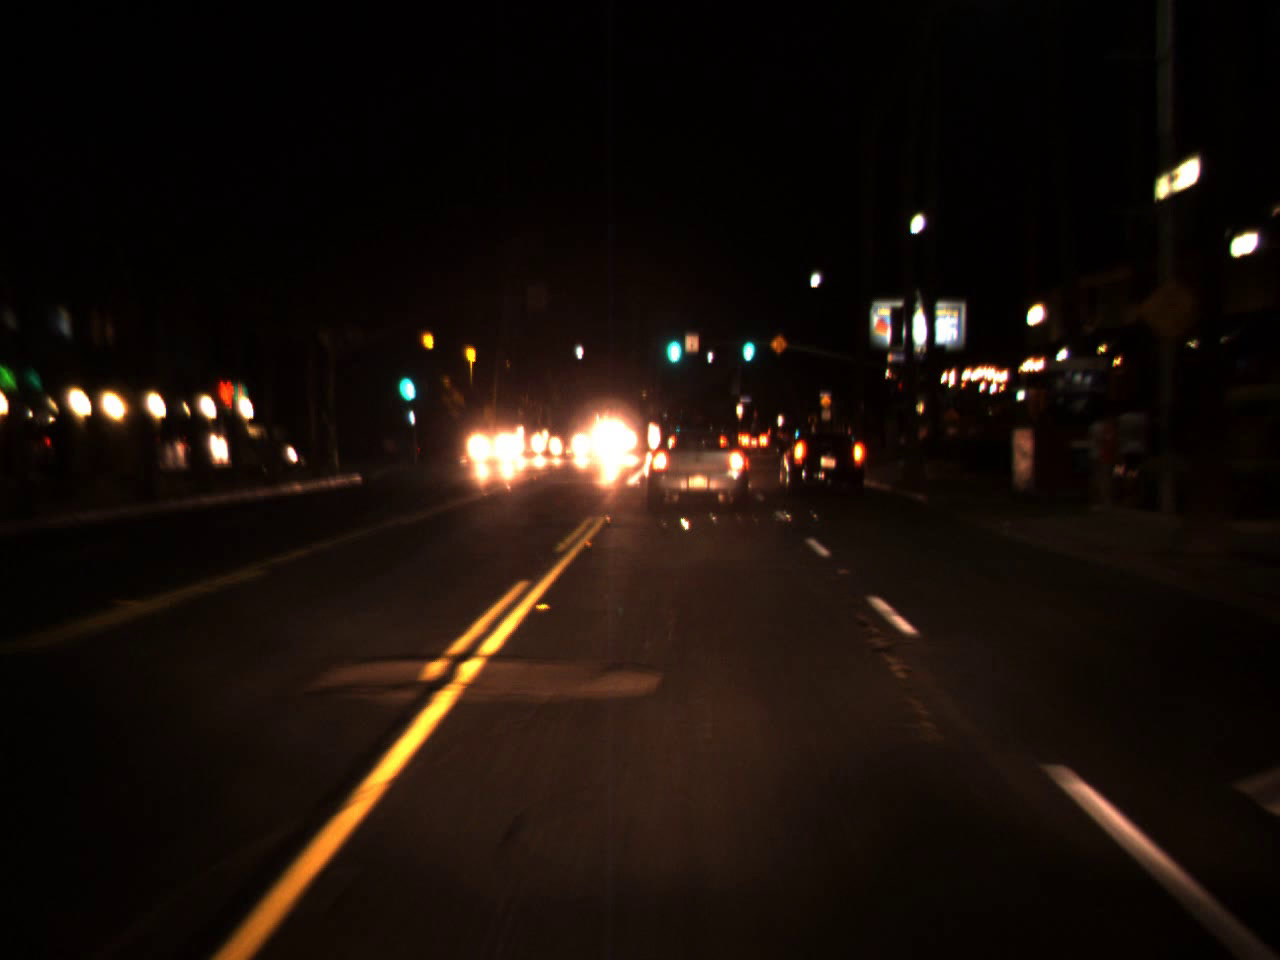go: (661, 312, 684, 372), (394, 347, 415, 410), (739, 326, 757, 359)
